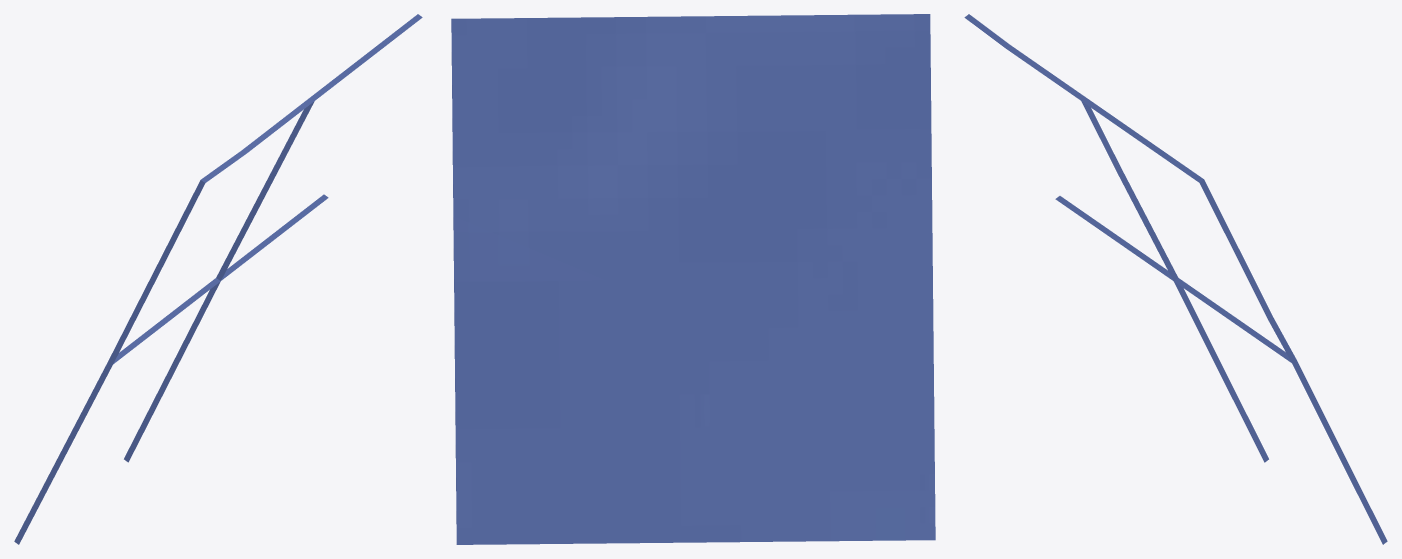
3 renders of one model, left to right at view 1: azimuth 30°, elevation 25°; view 2: azimuth 150°, elevation 25°; view 3: azimuth 270°, elevation 25°, orthographic. The views are drawn at different scales.
Bounding box in the file's own units: 4917 × 4437 × 4128.
1 material, 1 textured.
